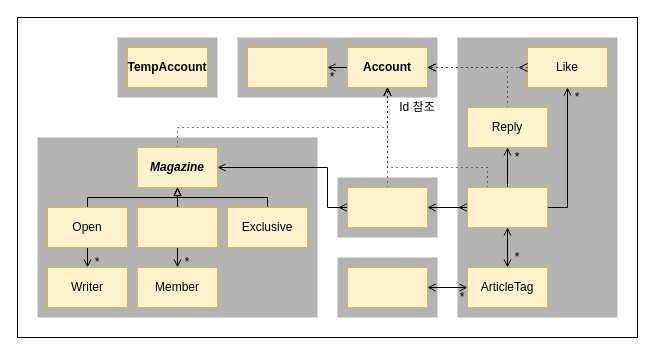
Image size: 655x355. Some labels were removed from this diagram. The centre of each missing label's shape, as x and y in pixels:
"Article" goes at [507,207].
"Managed" goes at [177,227].
"Notification" goes at [287,67].
"Tag" goes at [387,287].
"Topic" goes at [387,207].
